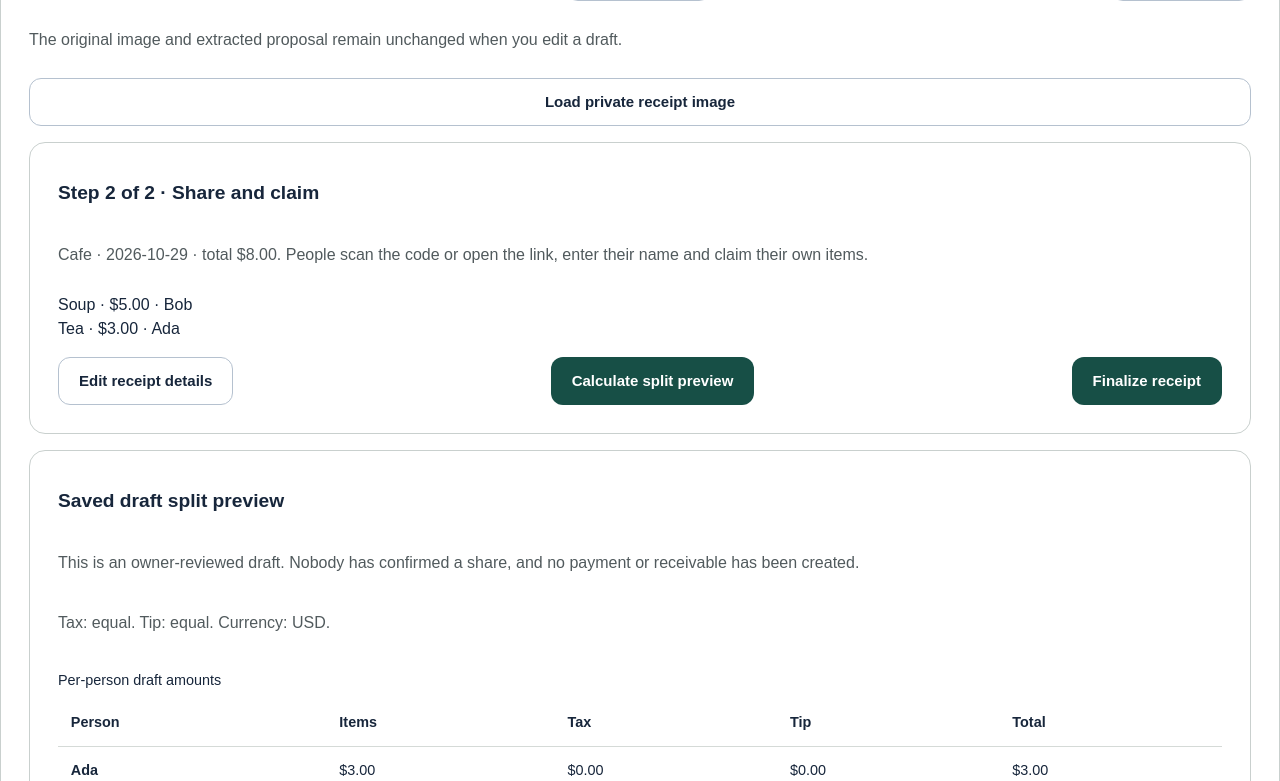
Scenario: finalize and receivables › finalizes only with a current preview, sending the version, then locks the view
(page scrolled)
Click the button "Finalize receipt".
click(1147, 381)  # box [1072, 357, 1222, 405]
(page scrolled)
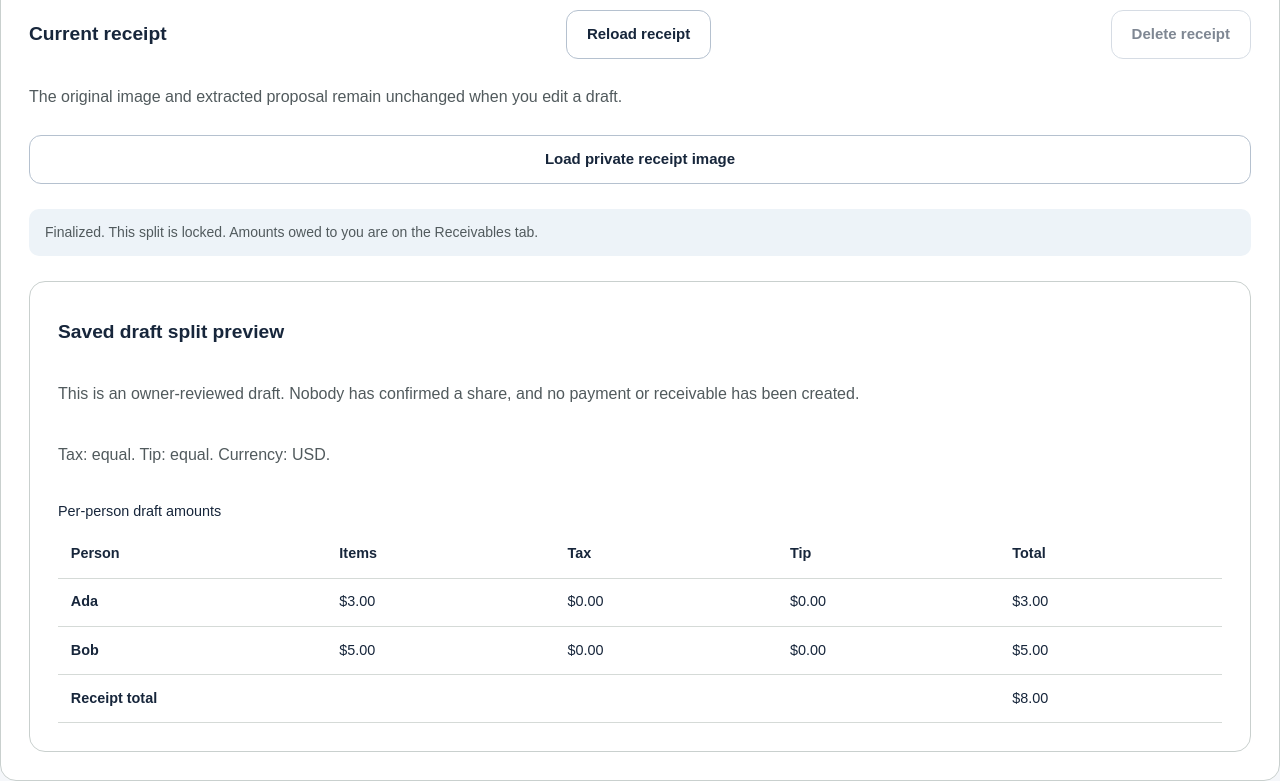
Expected: the text "This split is locked" is shown, [45, 224, 538, 240]
Expected: the button "Delete receipt" is disabled, [1111, 10, 1251, 58]
Expected: the button "Finalize receipt" is gone
